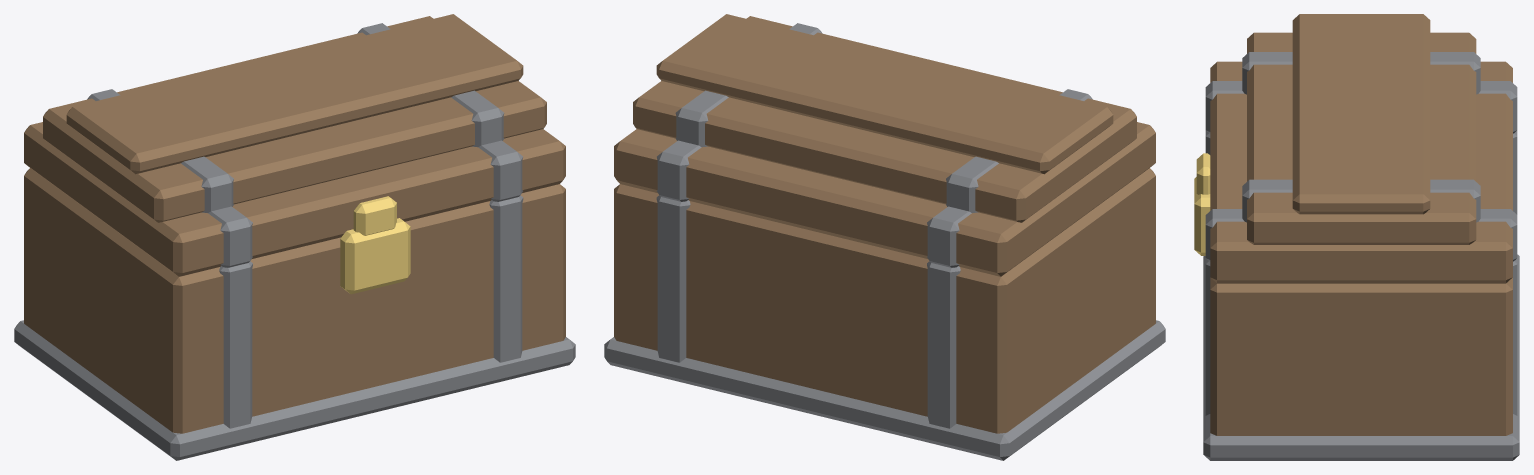
Rendered from Chest.fbx.
The picture shows the model from 3 angles, left to right: view 1: azimuth 30°, elevation 25°; view 2: azimuth 150°, elevation 25°; view 3: azimuth 270°, elevation 25°; orthographic projection. The views are drawn at different scales.
Visible parts, largest first — view 1: Chest_Body, Chest_Lid; view 2: Chest_Body, Chest_Lid; view 3: Chest_Lid, Chest_Body.
Part boxes in pixels (left/top/right/bottom): Chest_Body: left=14, top=168, right=575, bottom=460; Chest_Lid: left=24, top=14, right=565, bottom=276; Chest_Body: left=604, top=168, right=1165, bottom=460; Chest_Lid: left=614, top=14, right=1155, bottom=276; Chest_Lid: left=1196, top=14, right=1517, bottom=283; Chest_Body: left=1194, top=130, right=1519, bottom=460.
Bounding box in the file's own units: 0.99 × 0.635 × 0.71.
